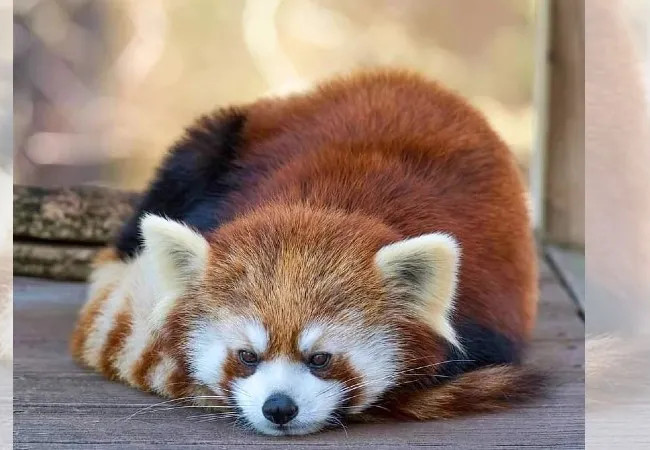Red panda: (135, 202, 463, 436)
